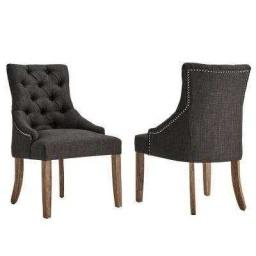Chair: (5, 62, 124, 216), (133, 62, 249, 212)
